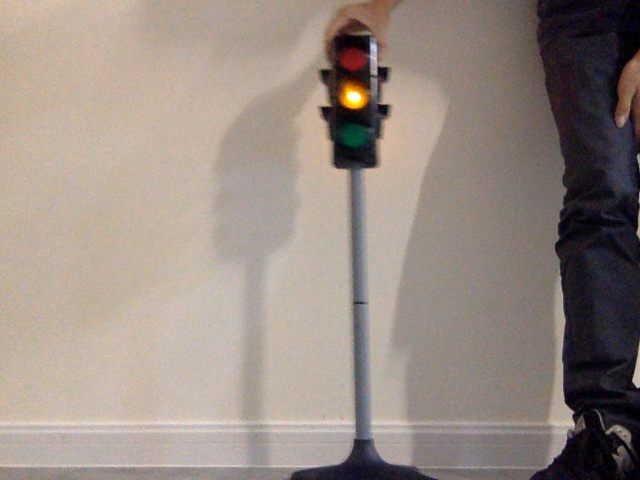yellow: (329, 42, 370, 149)
